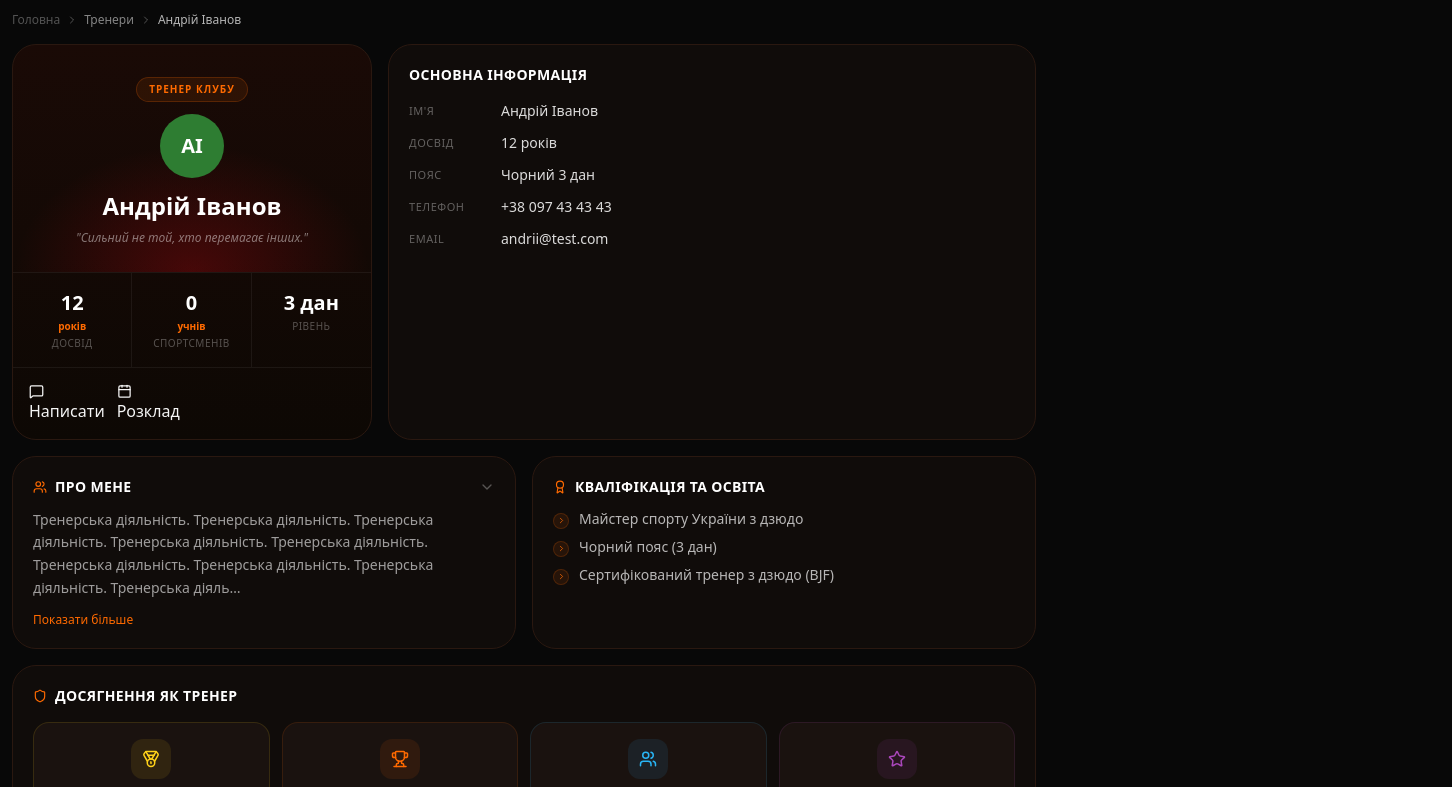
Test: CoachProfileContent › bio section collapses long text and shows expand button
Click the button "Показати більше" at (83, 619), box [33,612,495,628]
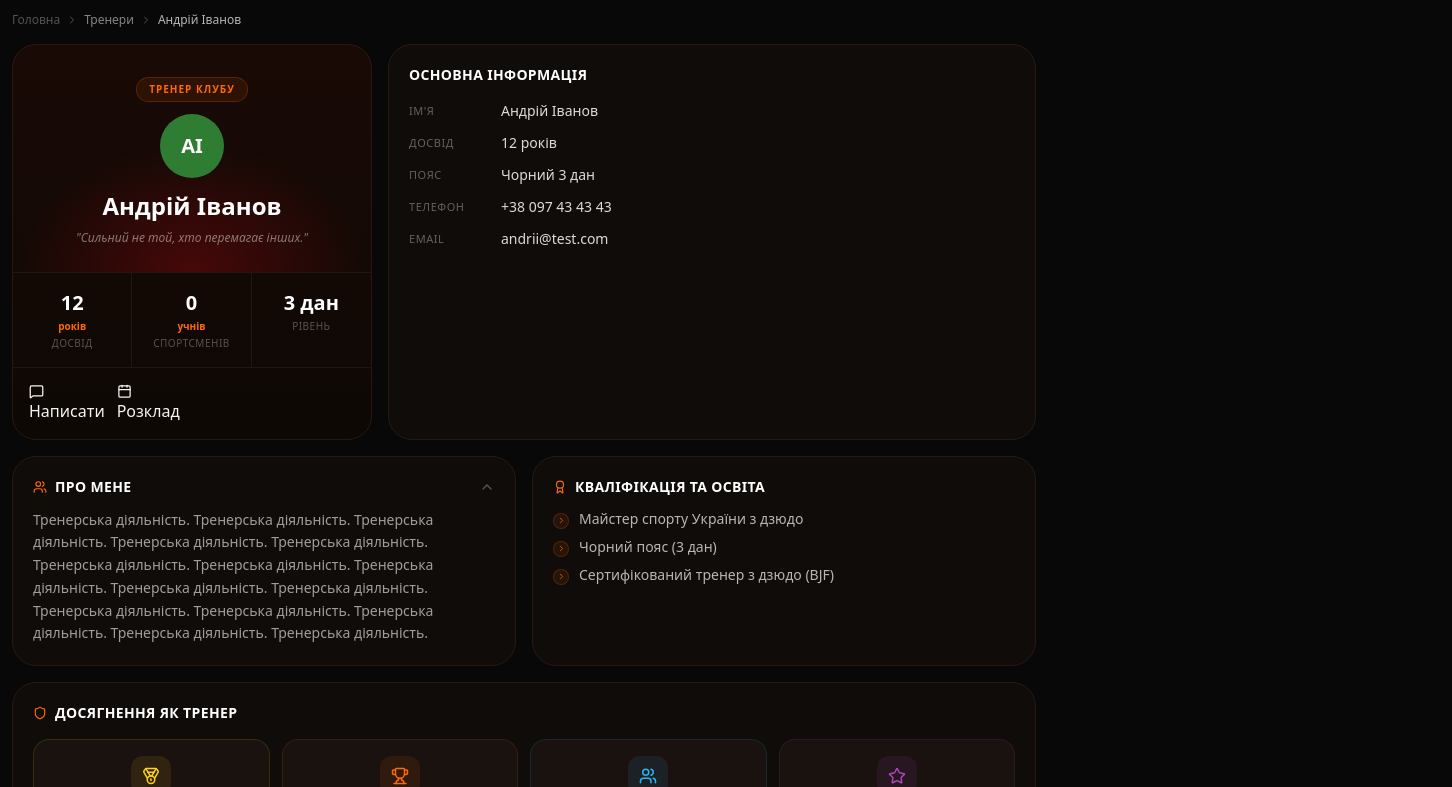
Check: the button "Показати більше" is gone
